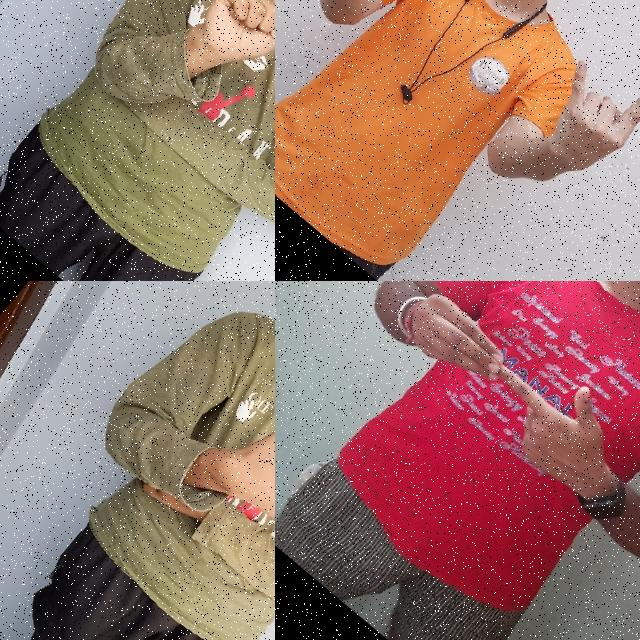Corna: (507, 35, 640, 201)
Dulya: (167, 0, 275, 102)
Five Fathers: (369, 281, 640, 518)
Thumbs Up: (183, 373, 275, 579)
